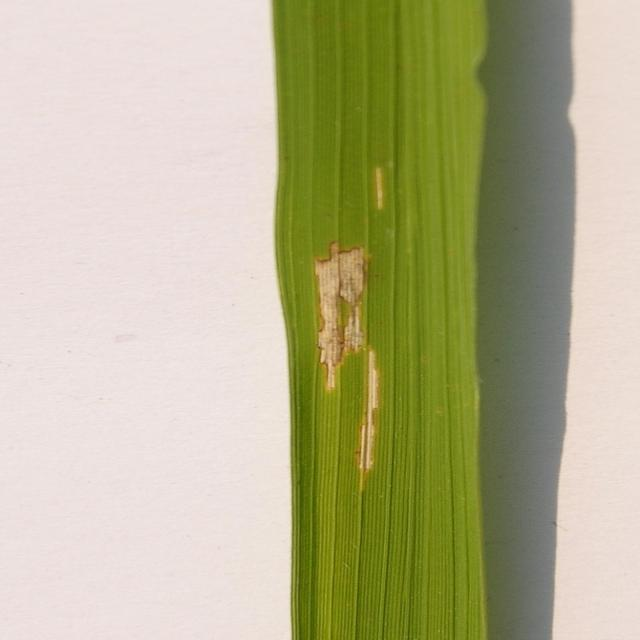leaf blight: (305, 168, 403, 480)
